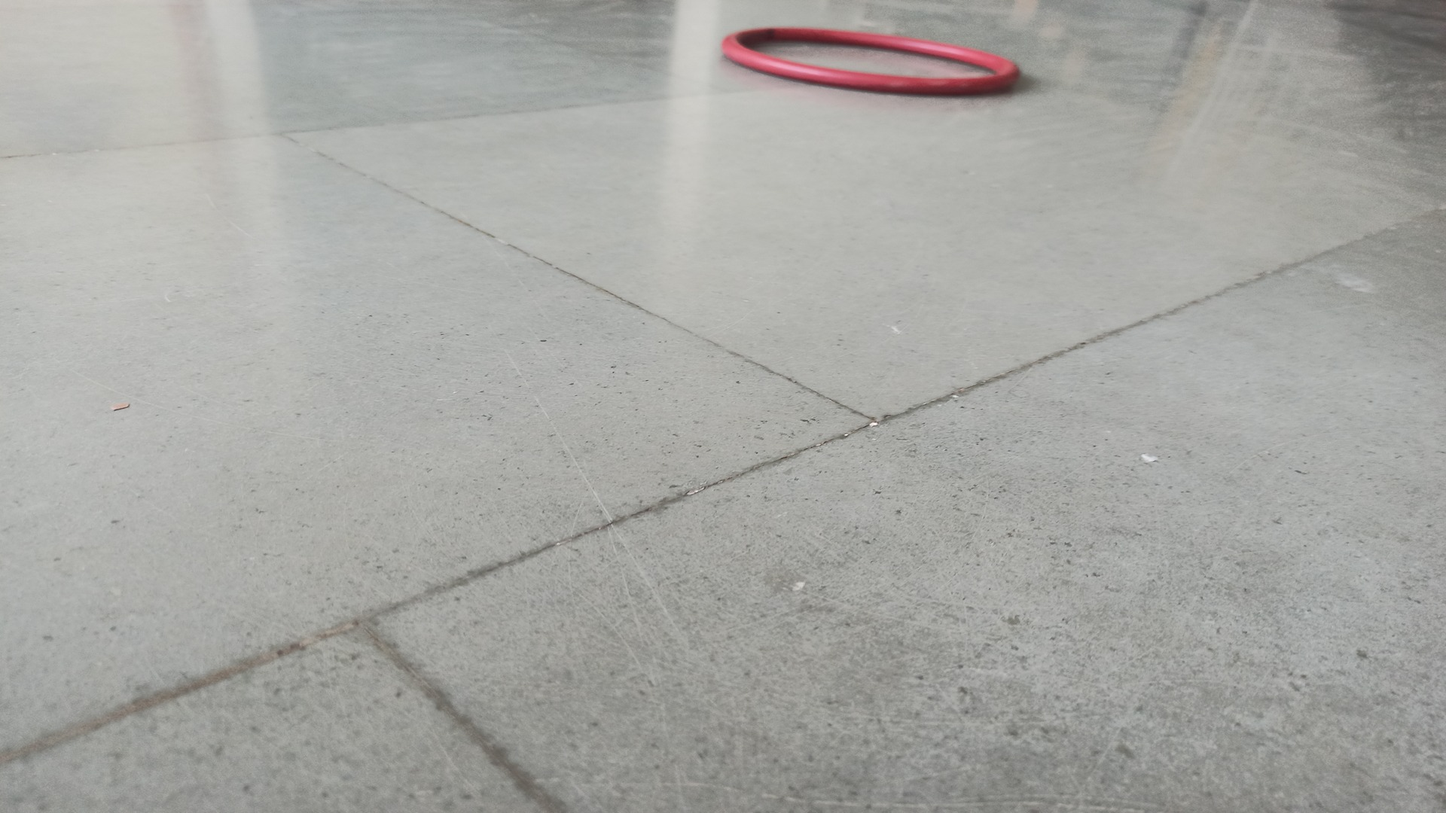Red ring: (716, 26, 1023, 95)
